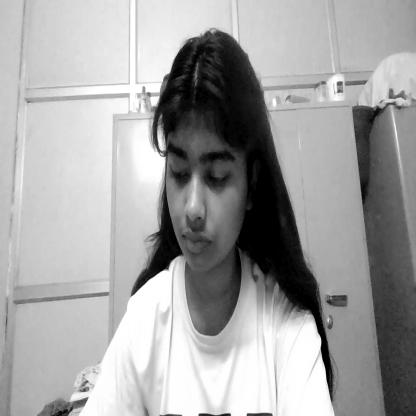Distracted: (157, 37, 264, 284)
